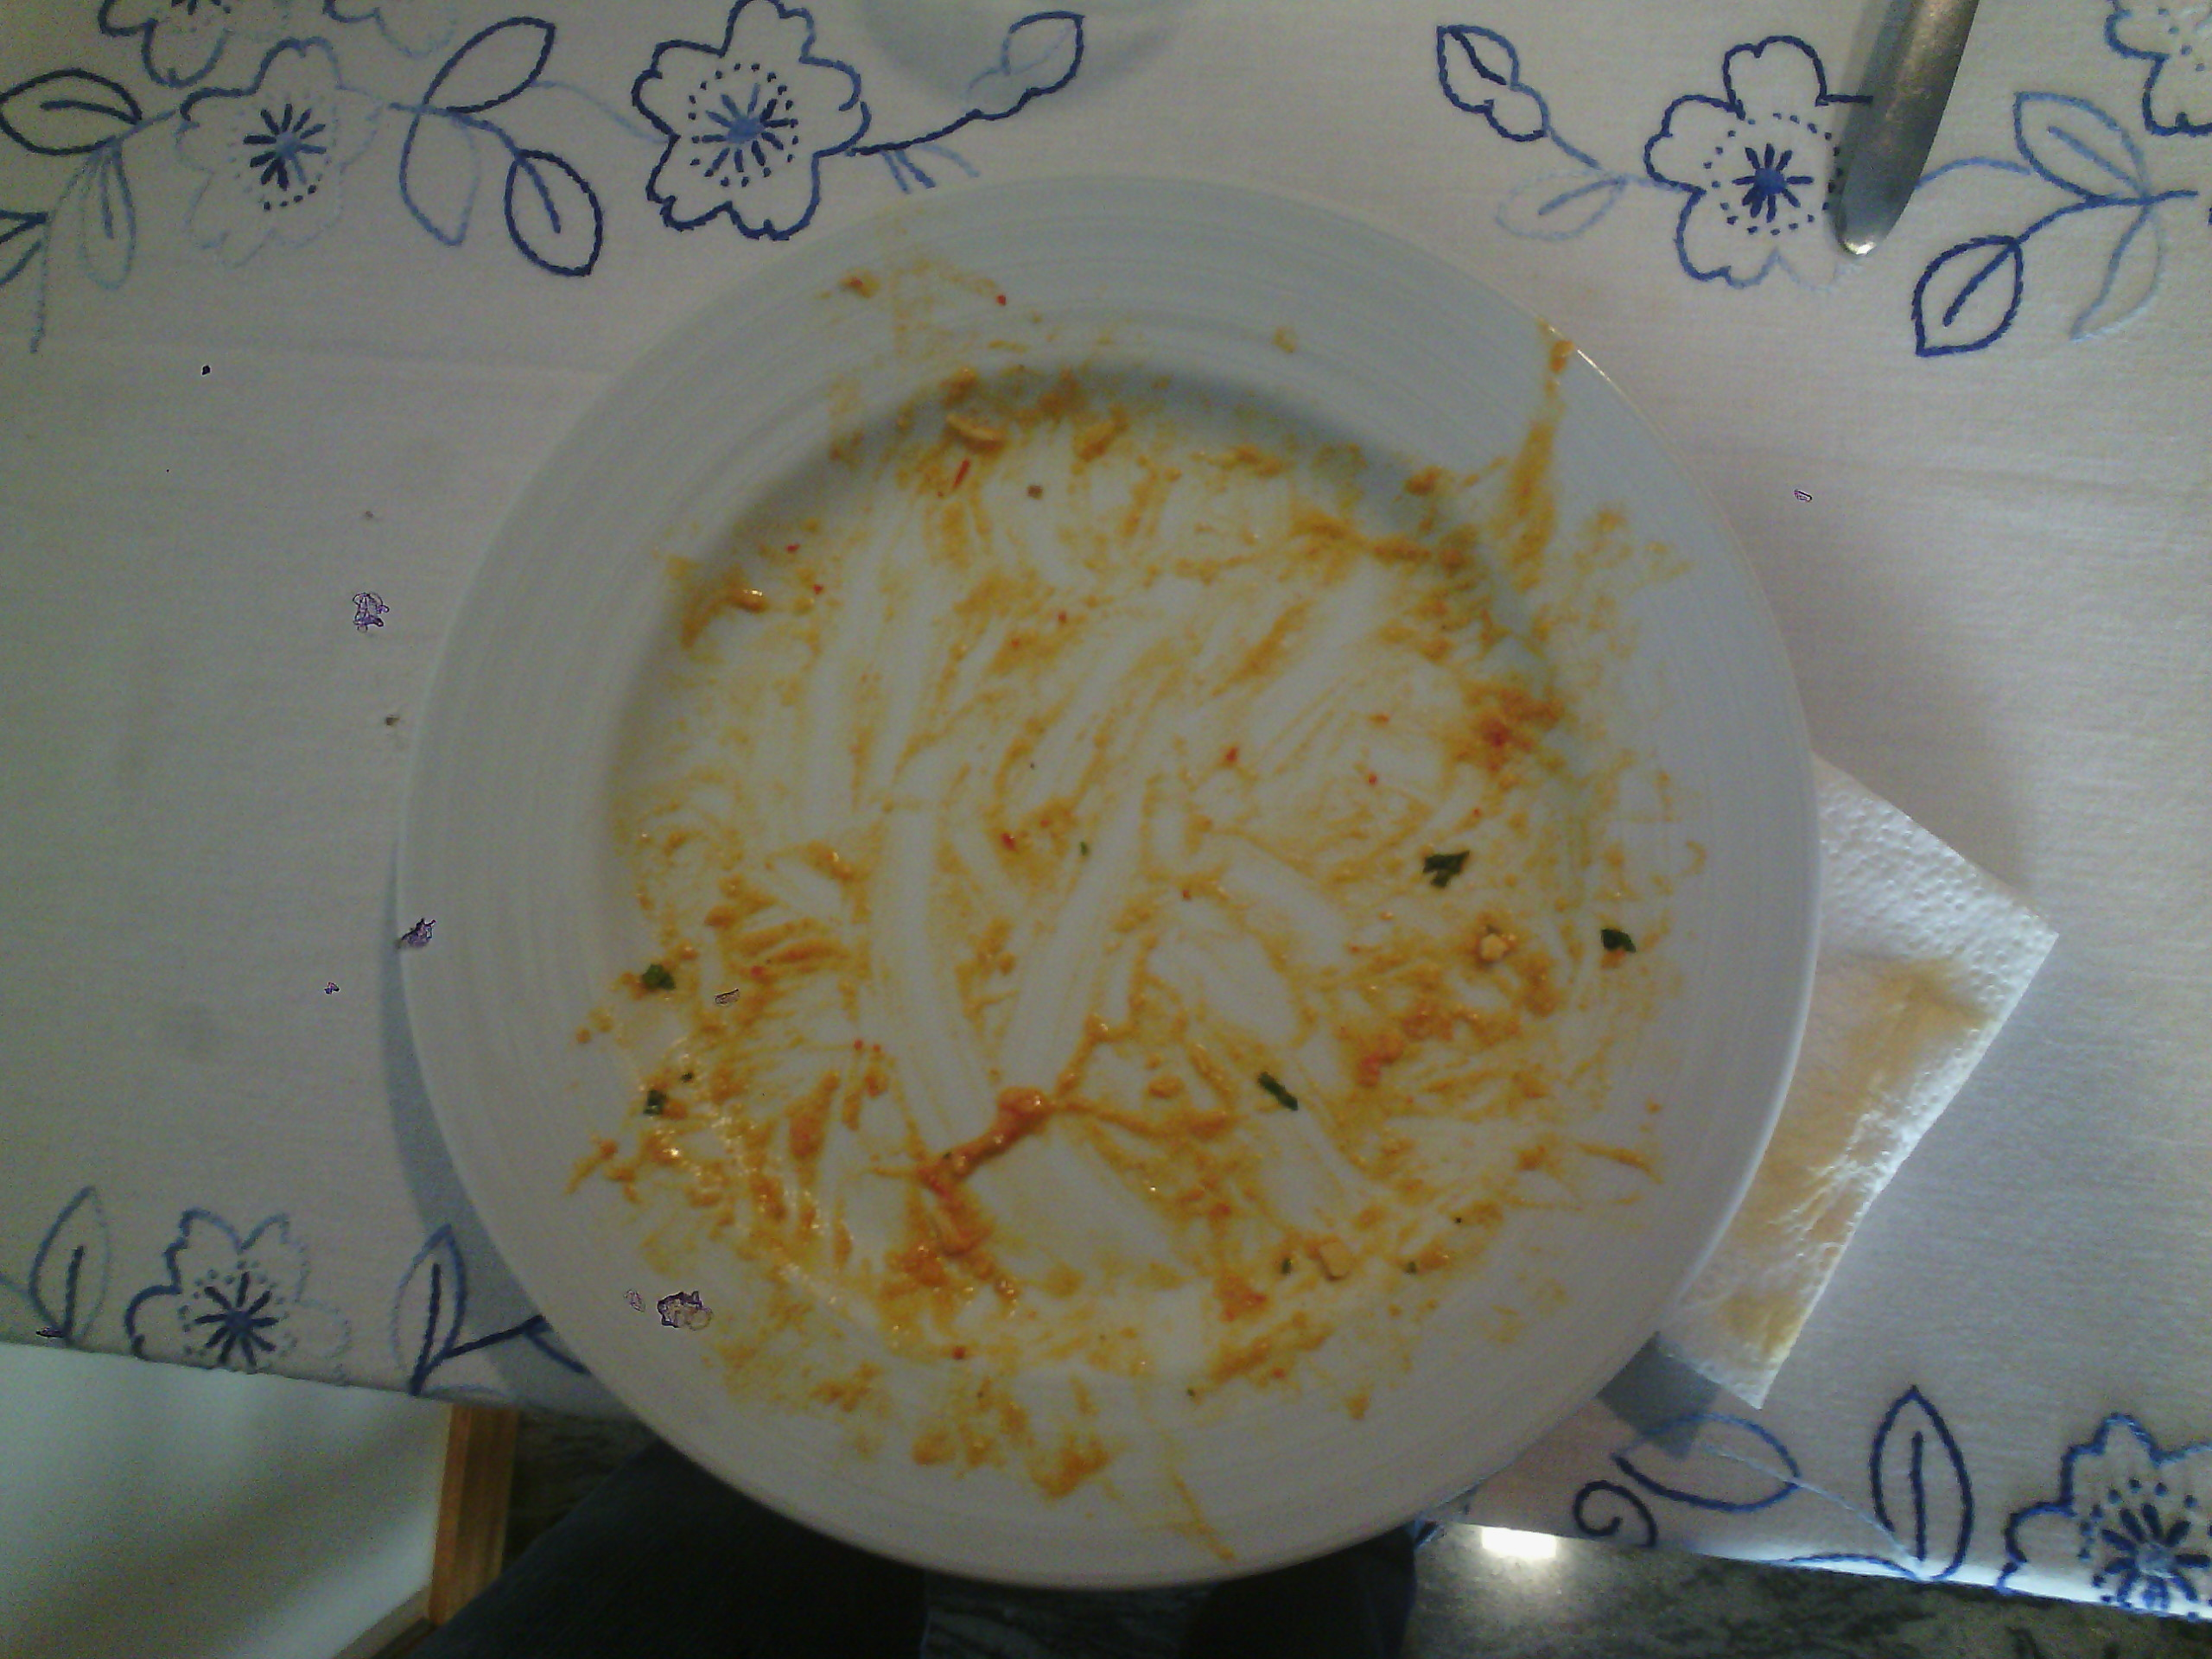0-20: (392, 171, 1818, 1584)
